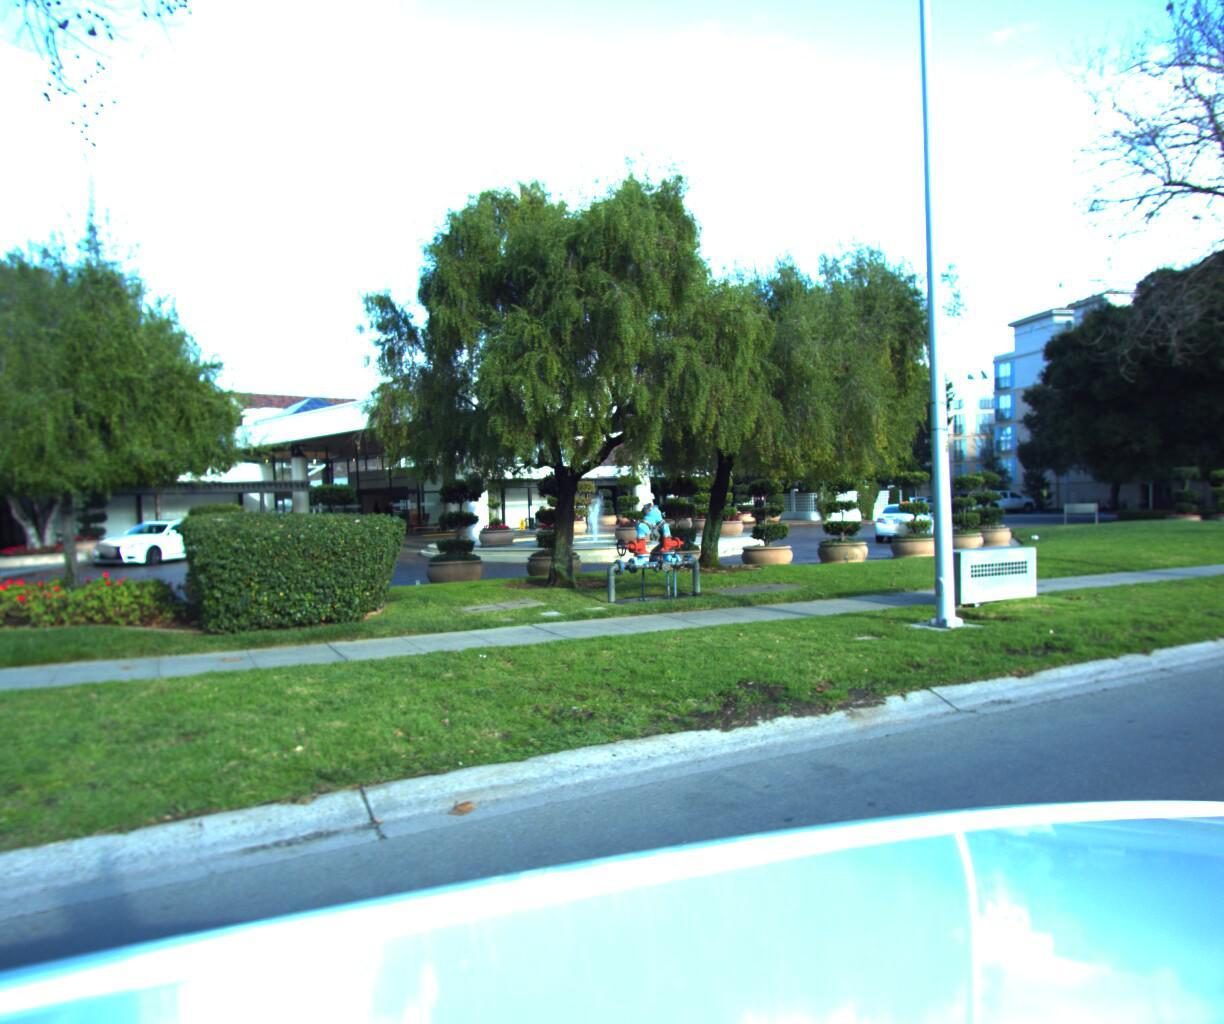car: (82, 514, 232, 568), (873, 496, 941, 541)
